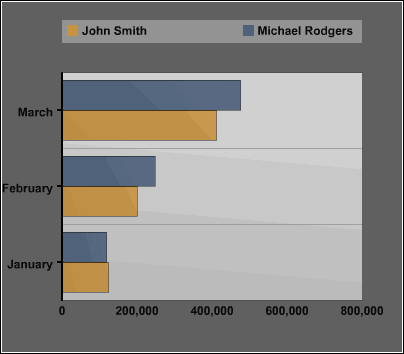canvas: (65, 73, 362, 298)
legend: (57, 14, 366, 46)
x-axis: (61, 298, 365, 304)
x-labels: (58, 305, 389, 317)
y-axis: (57, 70, 64, 301)
y-labels: (3, 91, 56, 273)
